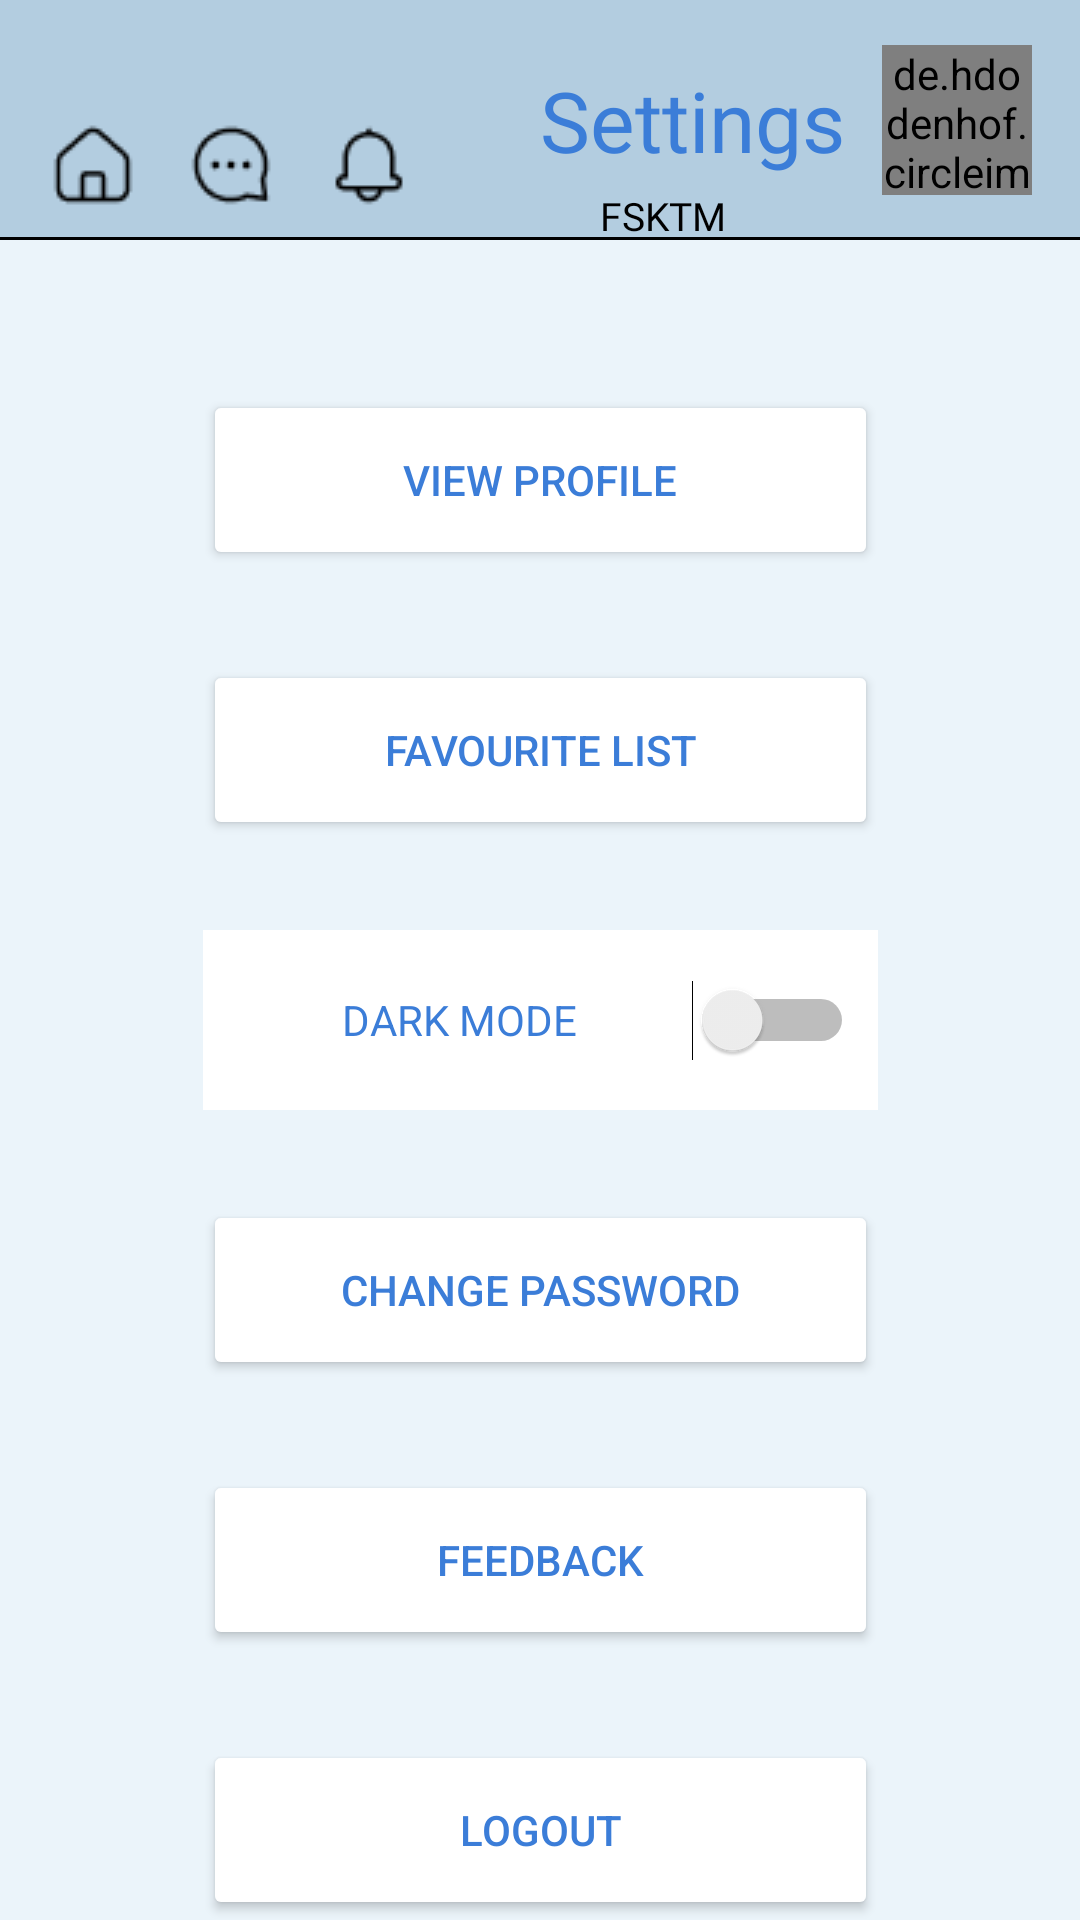

Point at icon controls on the screen. Image size 1080*1920, points as [x,y].
home: [93,165]
messenger: [231,165]
notification: [369,165]
